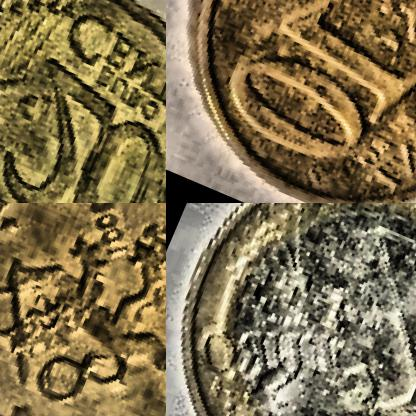coin: (166, 203, 415, 415), (166, 0, 415, 202), (0, 203, 165, 415), (0, 0, 165, 202)
